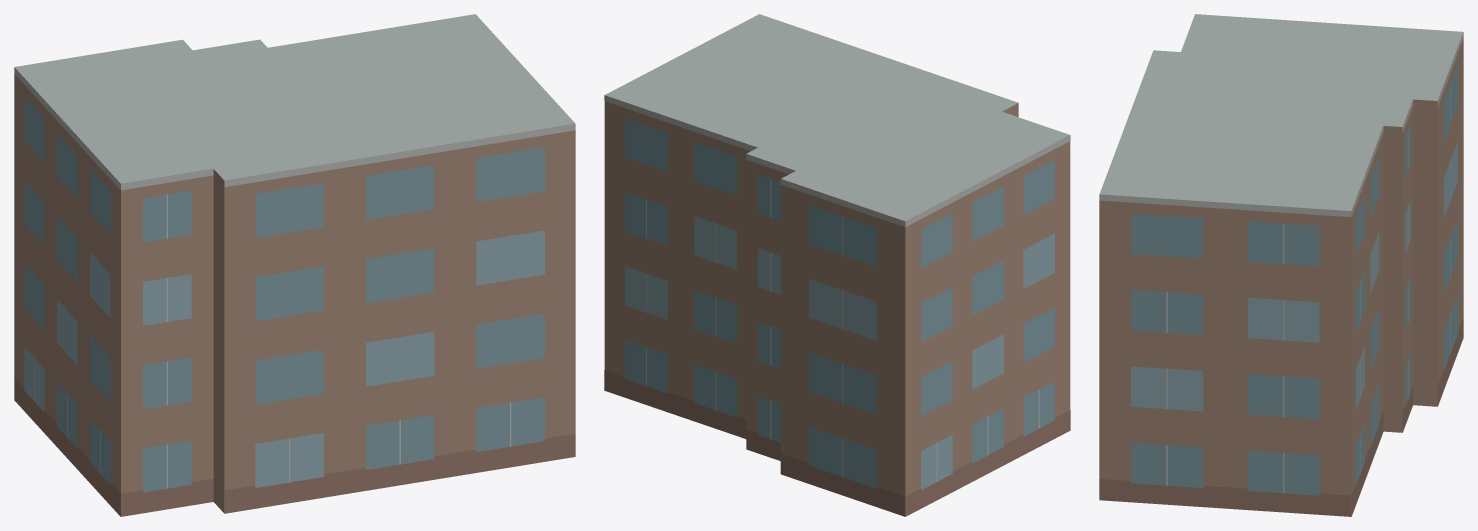
File: survey-upis-32620075.glb
3 renders of one model, left to right at view 1: azimuth 30°, elevation 25°; view 2: azimuth 150°, elevation 25°; view 3: azimuth 270°, elevation 25°, orthographic. The views are drawn at different scales.
Parts seen in each view (by area): view 1: survey-upis-32620075.tmp; view 2: survey-upis-32620075.tmp; view 3: survey-upis-32620075.tmp.
Boxes of the visible parts, x1,y1,x2,y2 form: survey-upis-32620075.tmp: (14, 14, 575, 516); survey-upis-32620075.tmp: (604, 14, 1070, 516); survey-upis-32620075.tmp: (1099, 14, 1463, 516).
Size of the model in its own units: 16.87 by 12.2 by 13.18.
